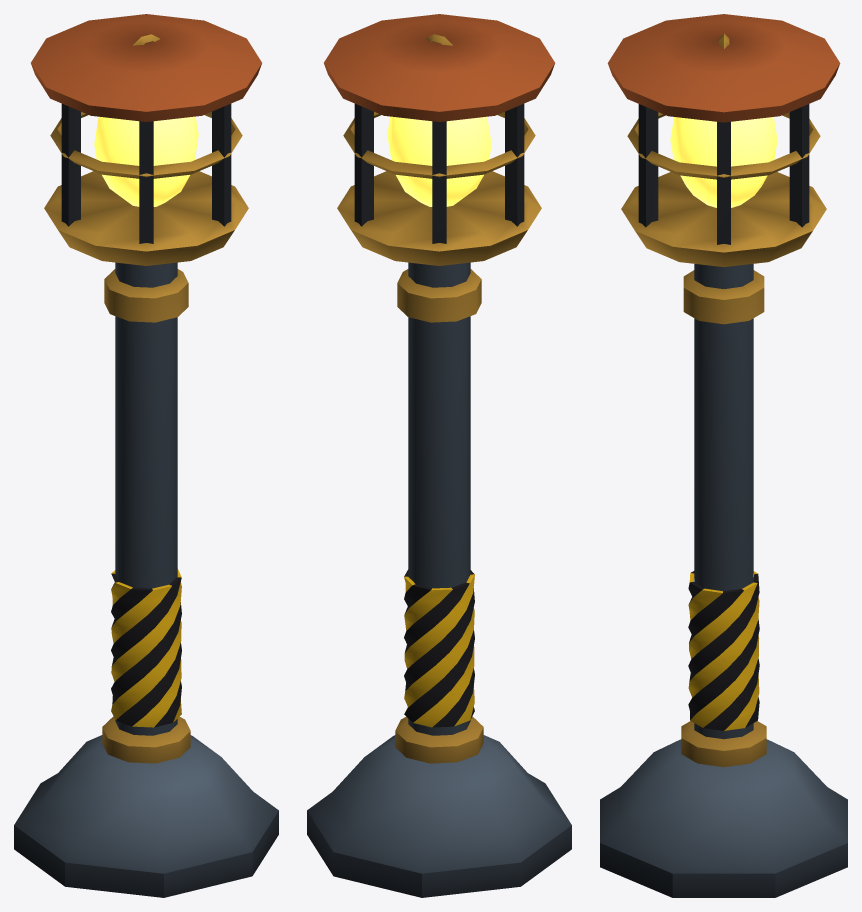
The model's file is forge_lantern.glb.
3 renders of one model, left to right at view 1: azimuth 30°, elevation 25°; view 2: azimuth 150°, elevation 25°; view 3: azimuth 270°, elevation 25°, orthographic.
Visible parts, largest first — view 1: forge_lantern; view 2: forge_lantern; view 3: forge_lantern.
Boxes of the visible parts, x1,y1,x2,y2 form: forge_lantern: (14,14,278,897); forge_lantern: (307,14,571,897); forge_lantern: (600,14,847,897).
Bounding box in the file's own units: 0.5543 × 2 × 0.5543.
